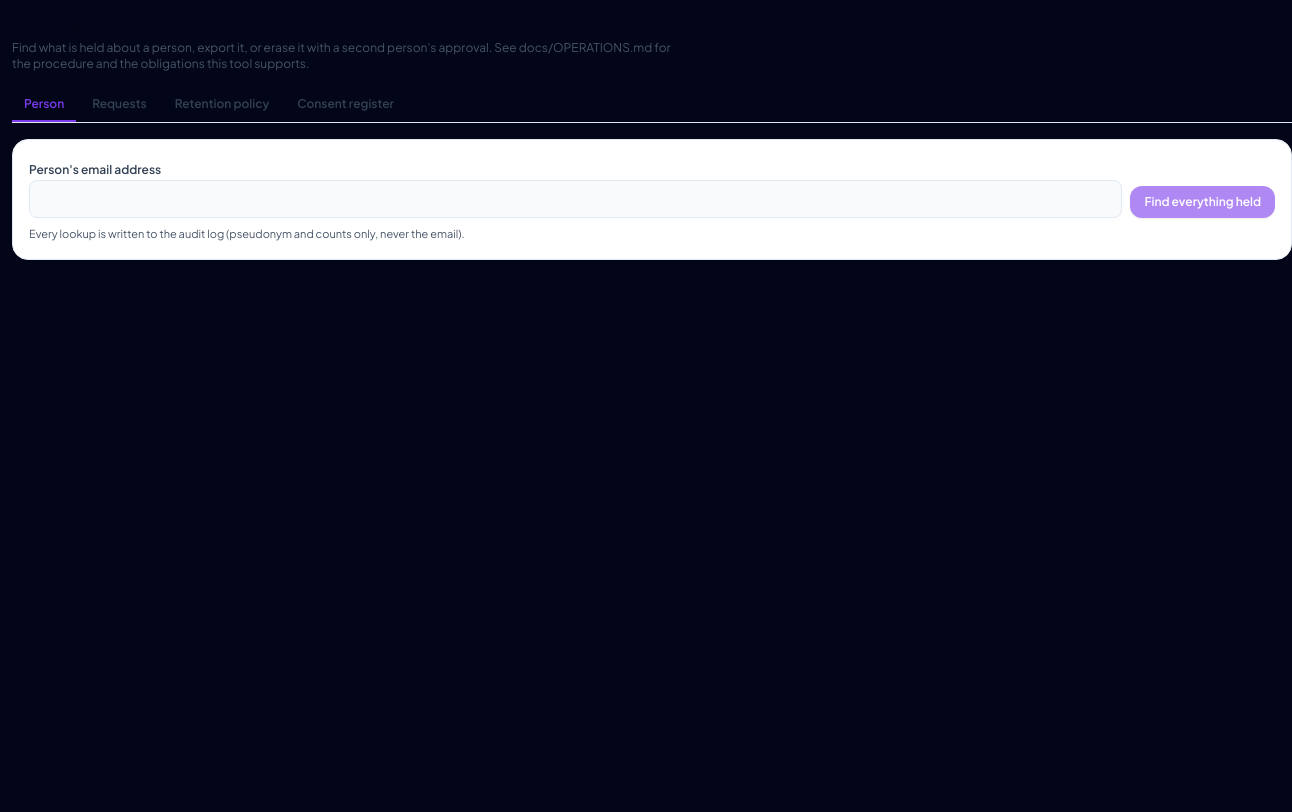
Scenario: DataPrivacyPage › SUPER_ADMIN must give a reason before requesting; the request names the two-person rule
Later steps or results of the test are not shown.
Type "p@example.com" into the field labelled "Person's email address" at (576, 199), box [29,180,1122,218]
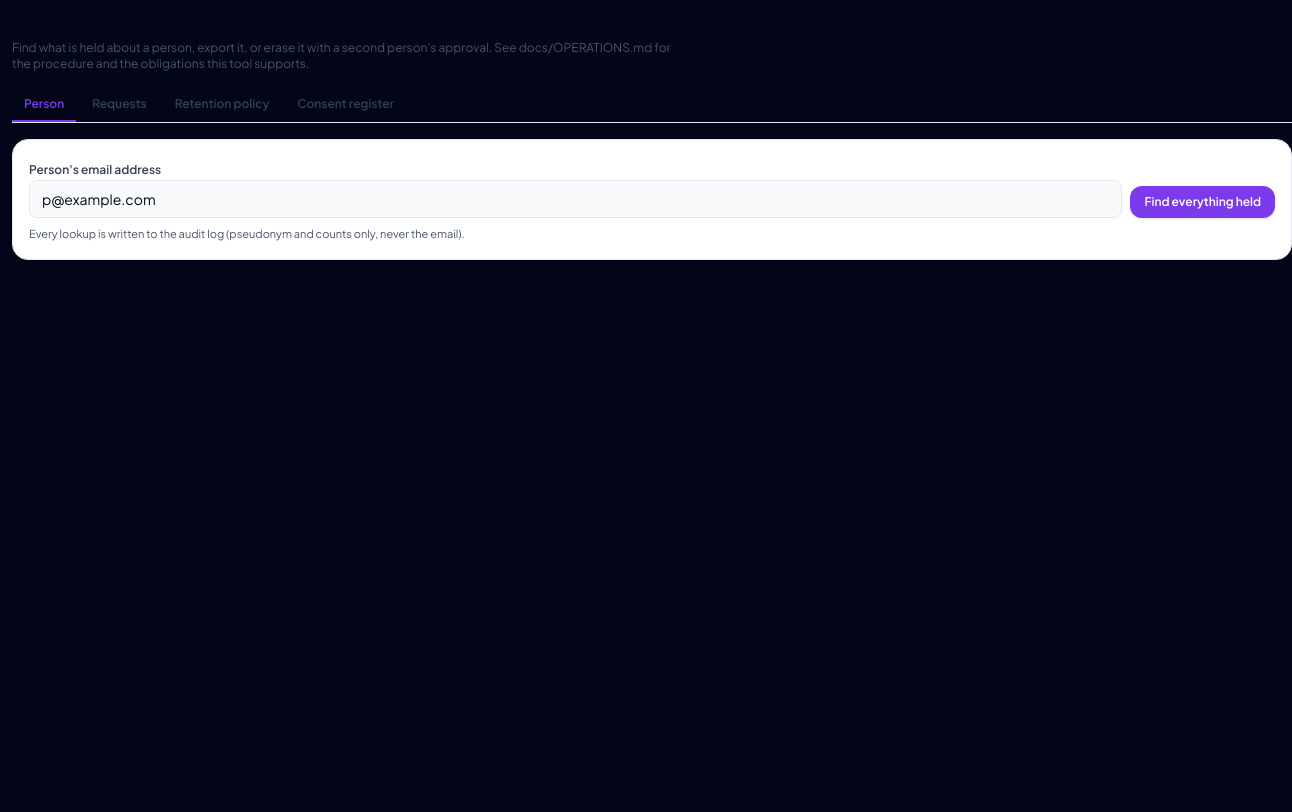
Click the button "Find everything held" at (1203, 202), box [1130,186,1275,218]
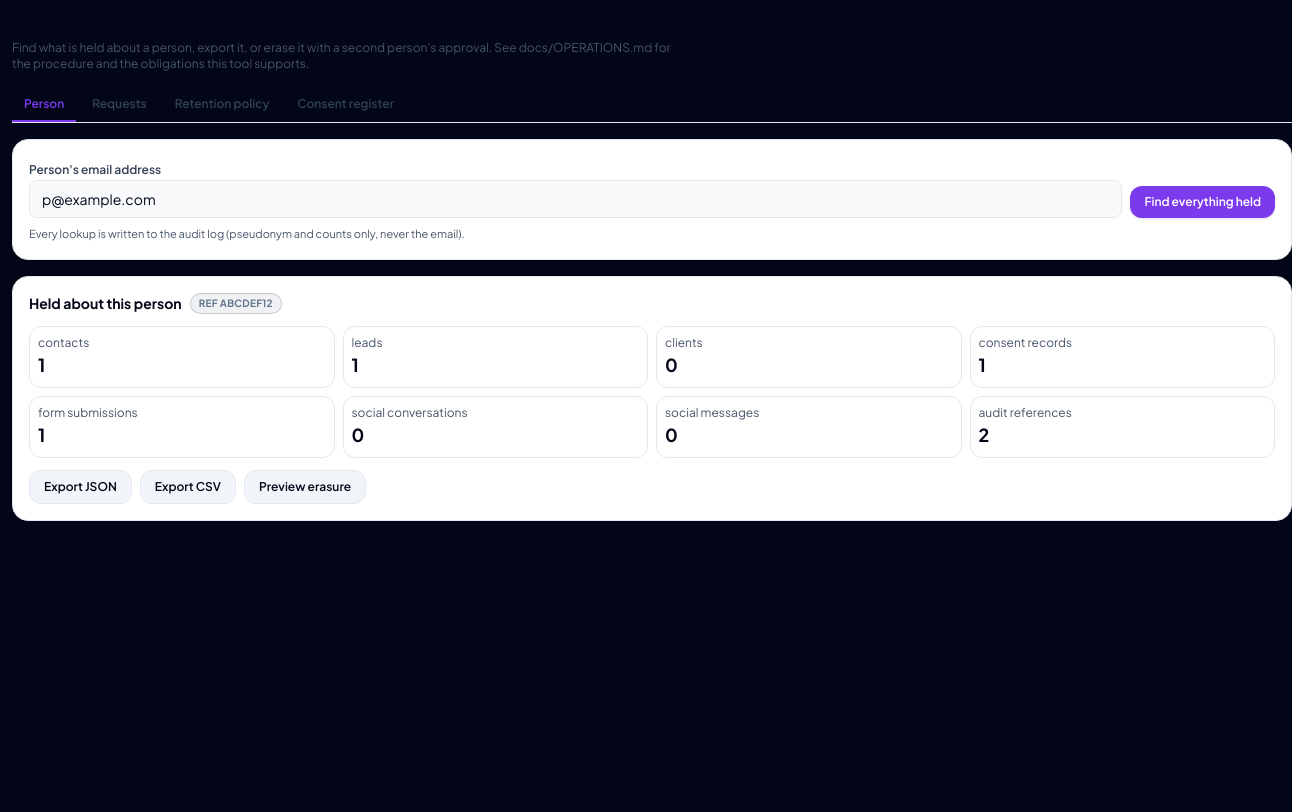
Click the button "Preview erasure" at (305, 486), box [244,470,366,504]
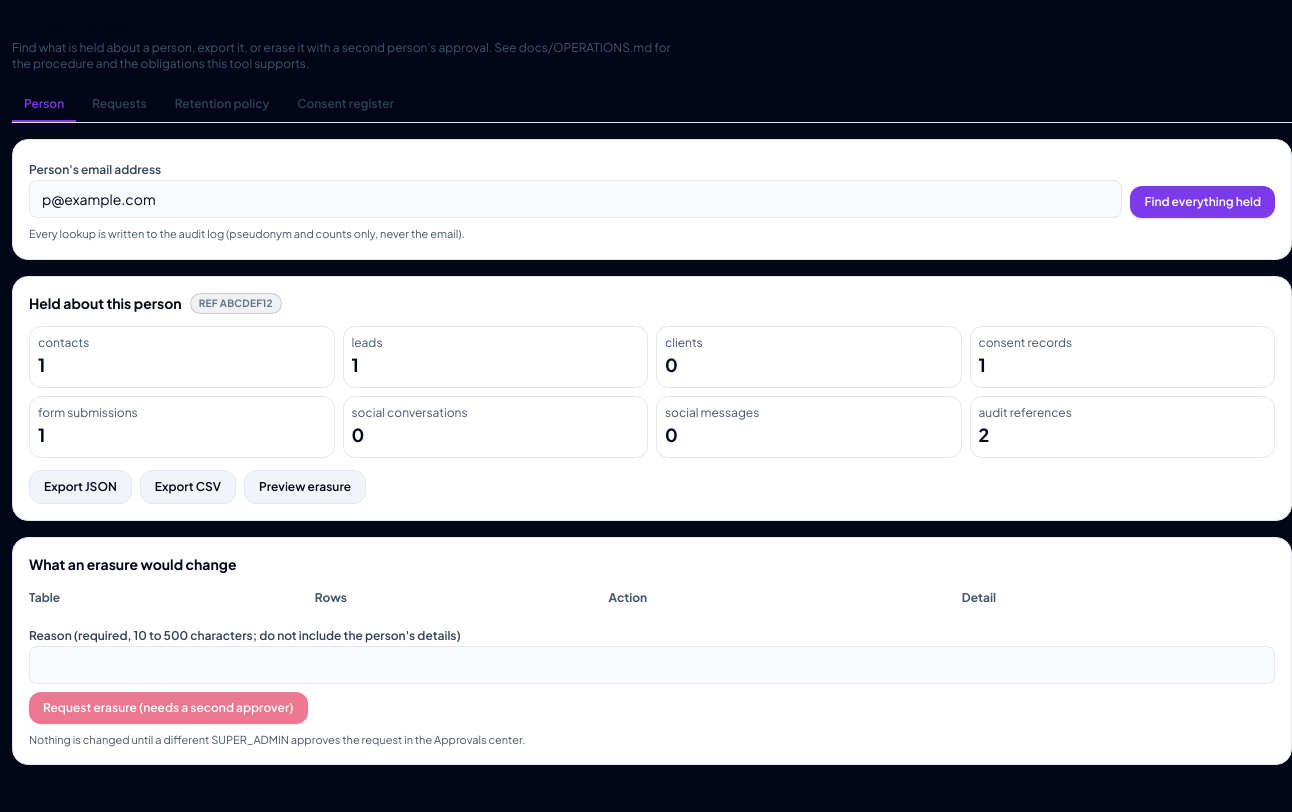
Result: the button "Request erasure (needs a second approver)" is disabled at [29,692,308,724]
Type "Data subject request received 2026-10-01" into the field labelled "Reason" at (652, 664), box [29,646,1275,684]
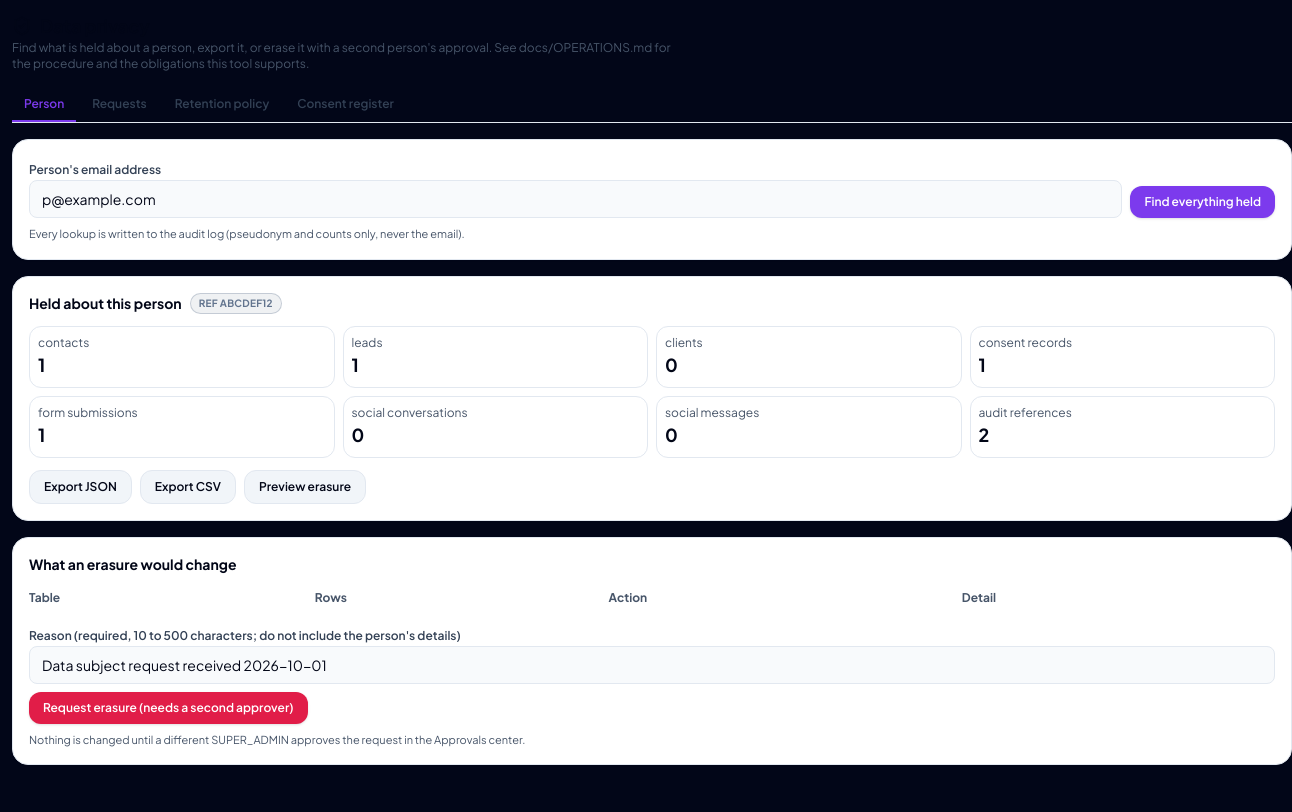
Result: the button "Request erasure (needs a second approver)" is enabled at [29,692,308,724]
